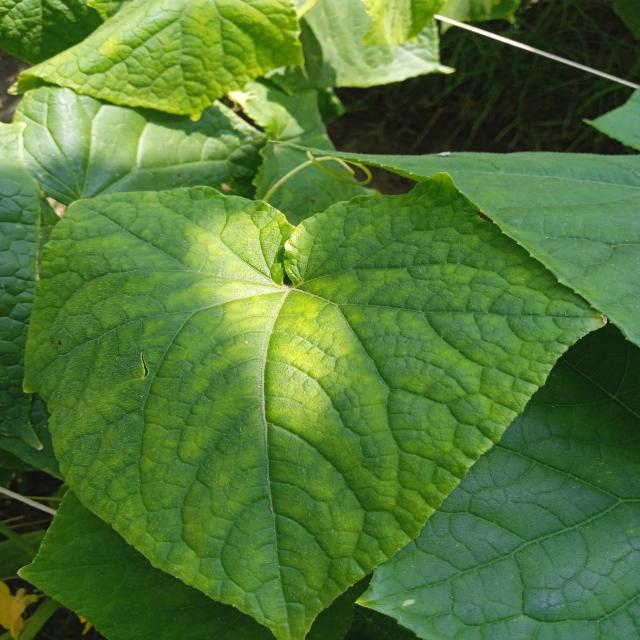cucumber_healthy: (18, 165, 610, 640), (352, 327, 640, 640), (391, 131, 640, 347), (5, 0, 308, 132)
